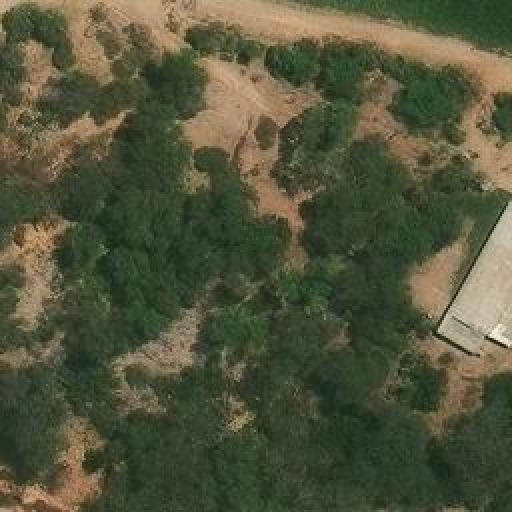manzanas: (425, 197, 510, 372)
